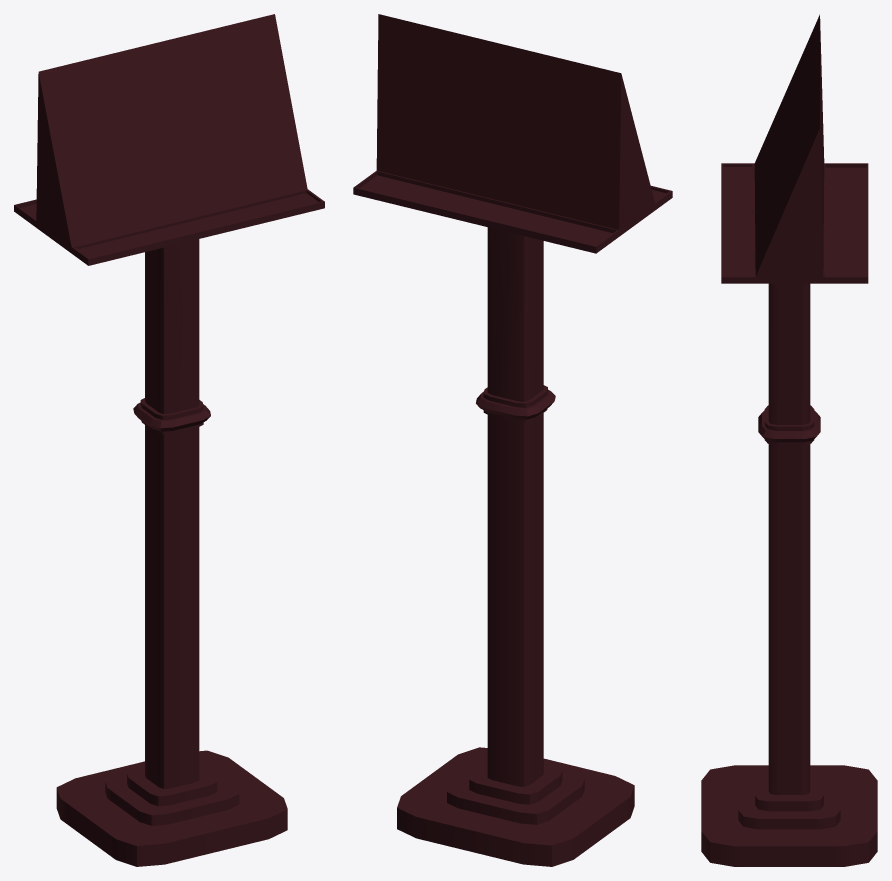
The picture shows the model from 3 angles, left to right: view 1: azimuth 30°, elevation 25°; view 2: azimuth 150°, elevation 25°; view 3: azimuth 270°, elevation 25°; orthographic projection. The views are drawn at different scales.
Parts seen in each view (by area): view 1: Leggio.001; view 2: Leggio.001; view 3: Leggio.001.
Boxes of the visible parts, left/top/right/bottom form: Leggio.001: left=14, top=14, right=324, bottom=866; Leggio.001: left=353, top=14, right=672, bottom=866; Leggio.001: left=701, top=14, right=877, bottom=866.
Bounding box in the file's own units: 88.02 × 272 × 57.59.
